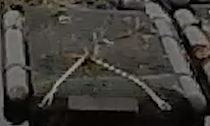bag: (2, 3, 207, 123)
